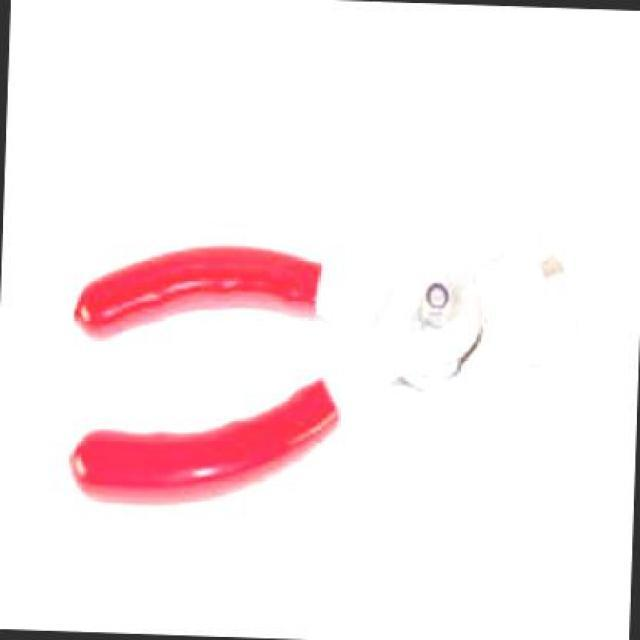pliers: (46, 210, 603, 530)
